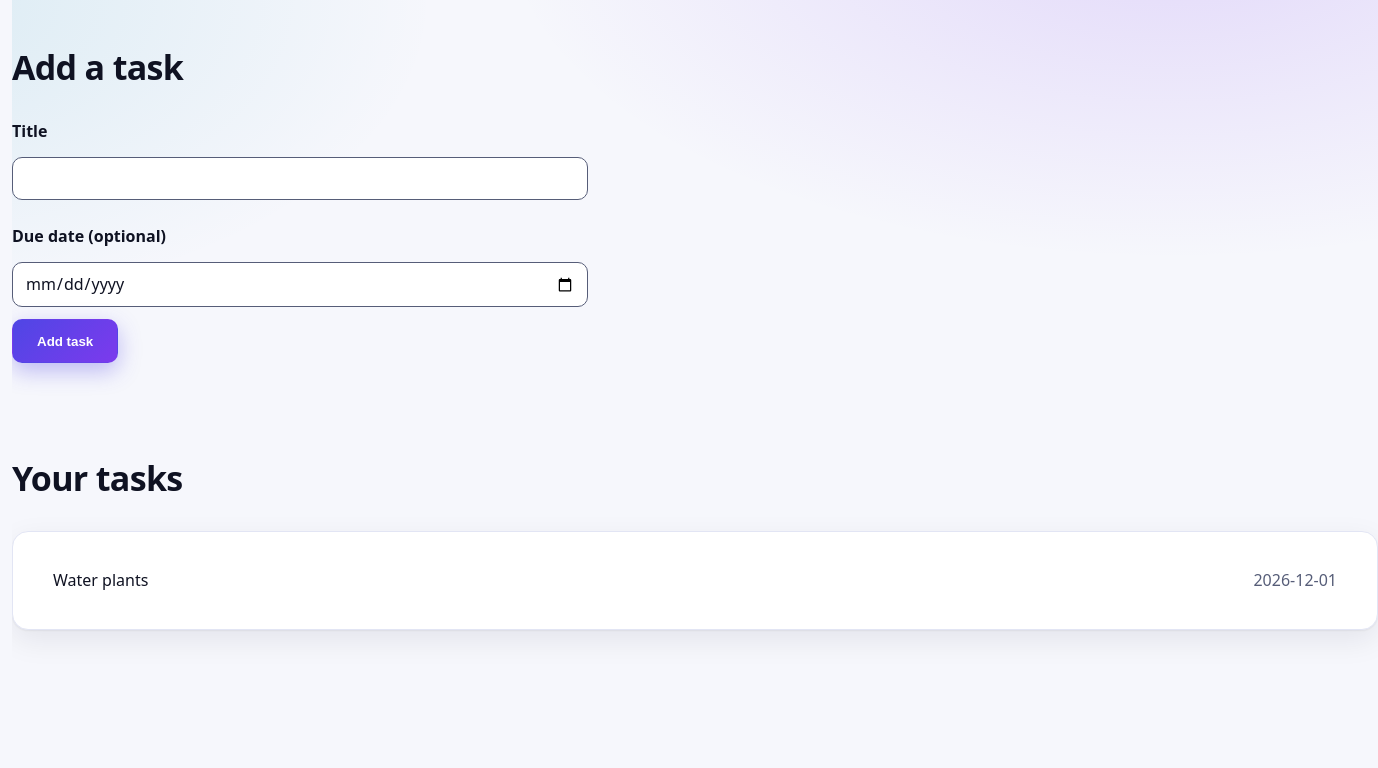
Scenario: TaskBoard › AC-001.6 shows the limit message in the form for a 409 and keeps values and list
Type "Buy milk" into the field labelled "Title" at (300, 178), box [12,157,588,200]
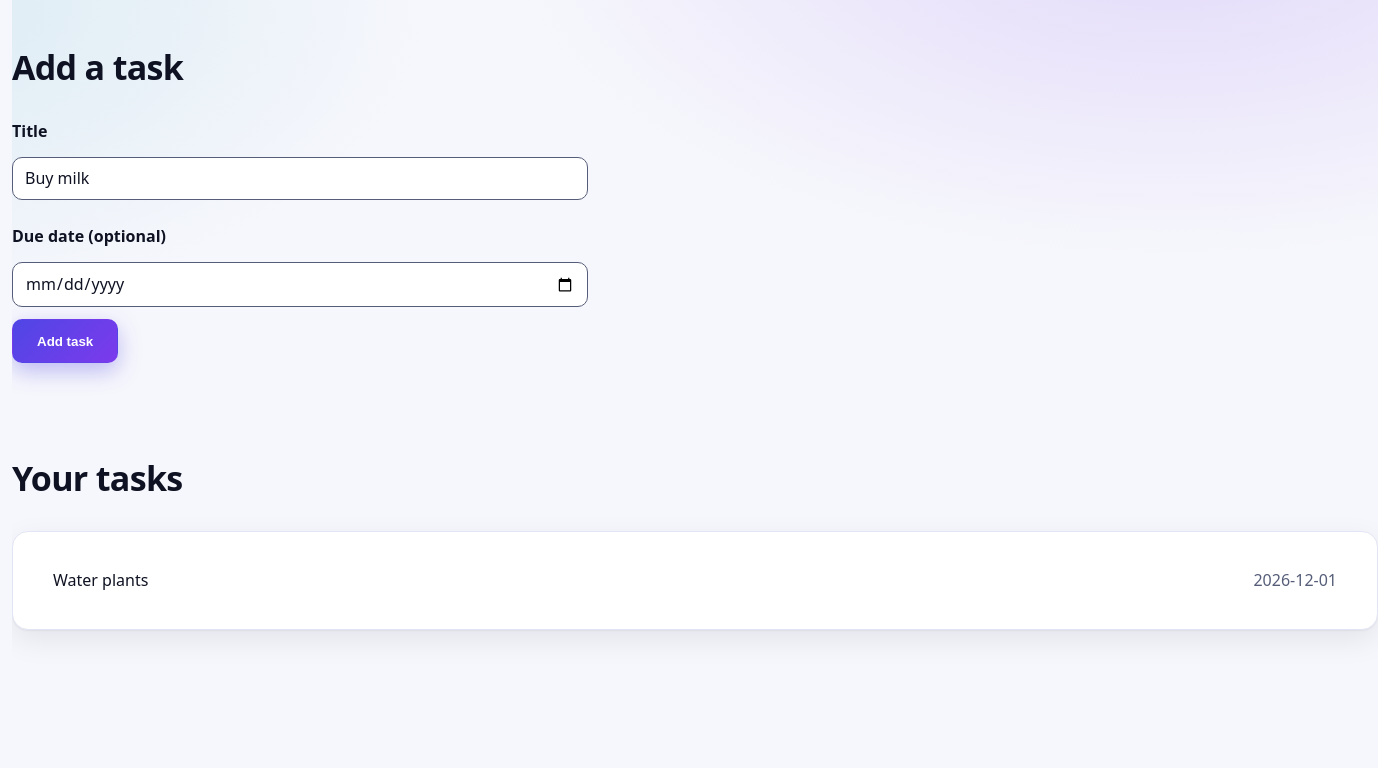
Type "2026-12-24" into the date field labelled "Due date (optional)" at (300, 285), box [12,262,588,308]
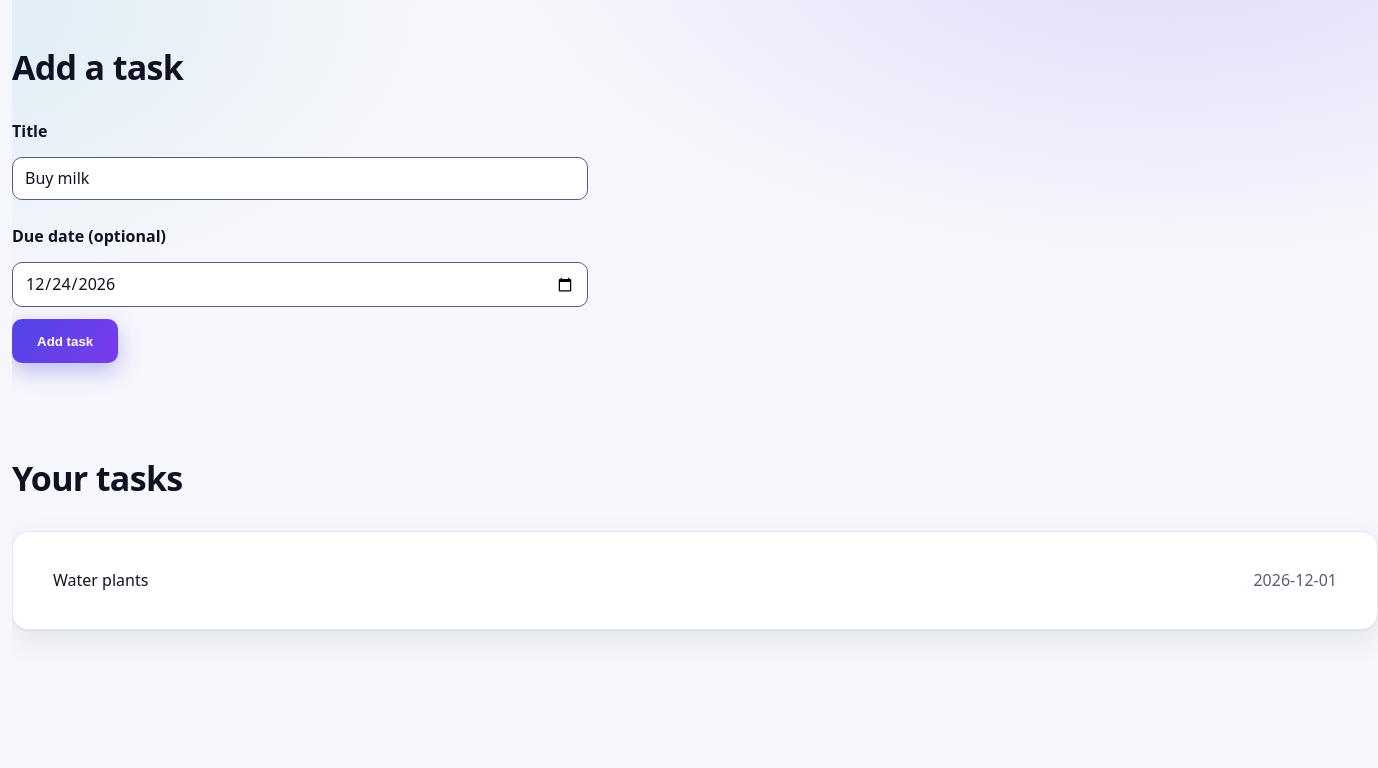
Click the button "Add task" at (65, 342), box [12,320,118,364]
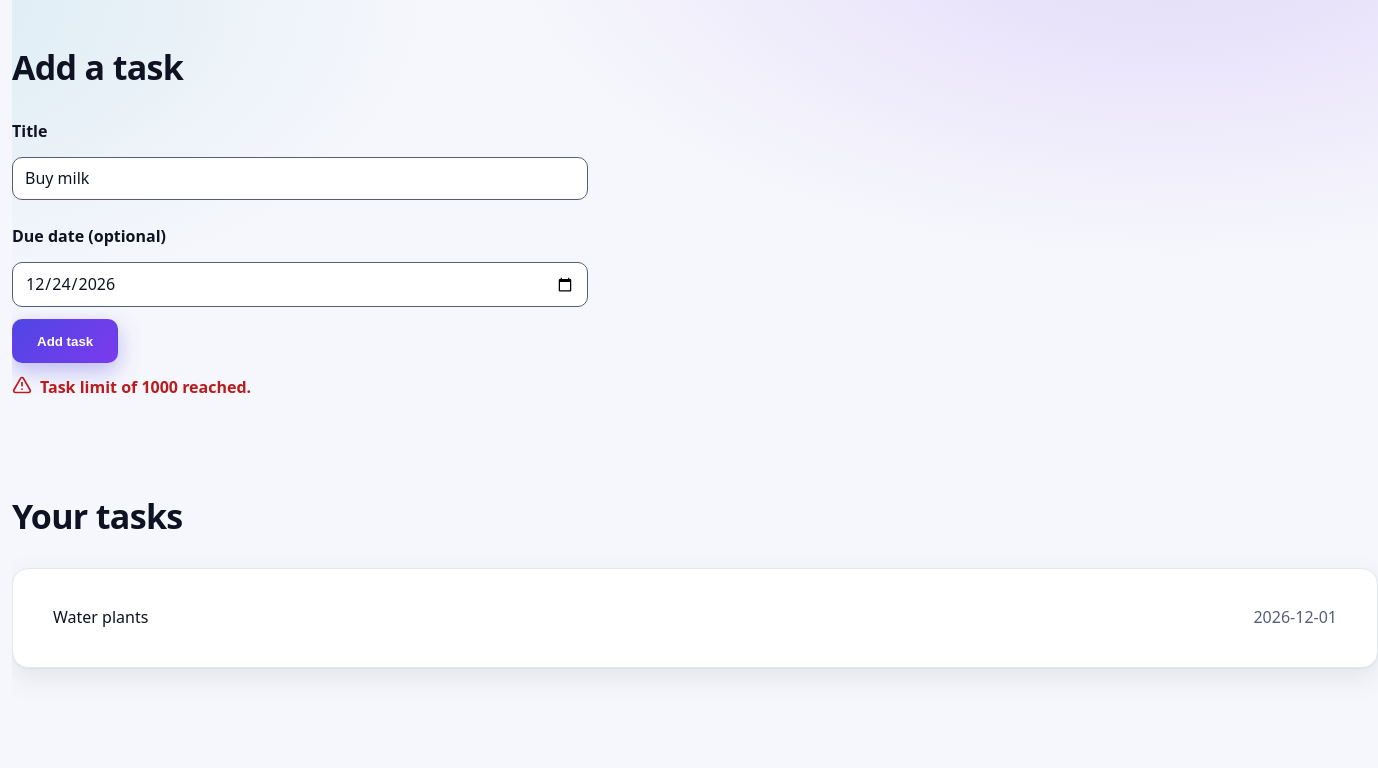
Expected: the number of list items is 1, [53,606,1337,628]
Expected: the message reads "Task limit of 1000 reached.", [40,376,251,398]
